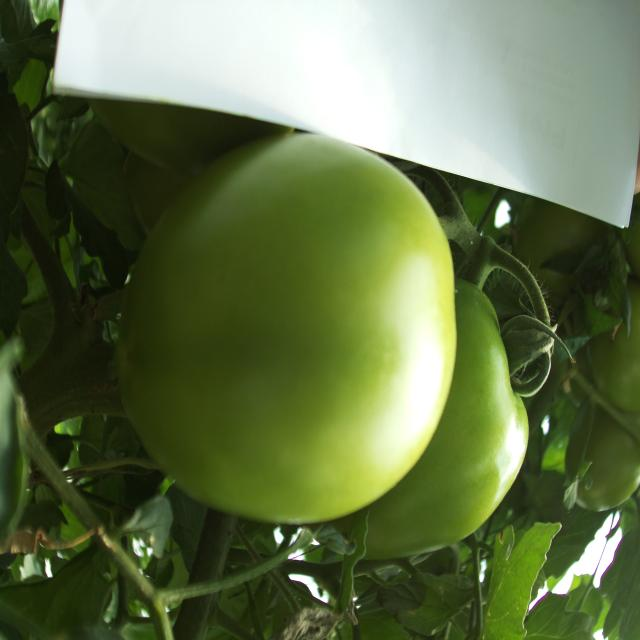yesil: (76, 110, 508, 588)
